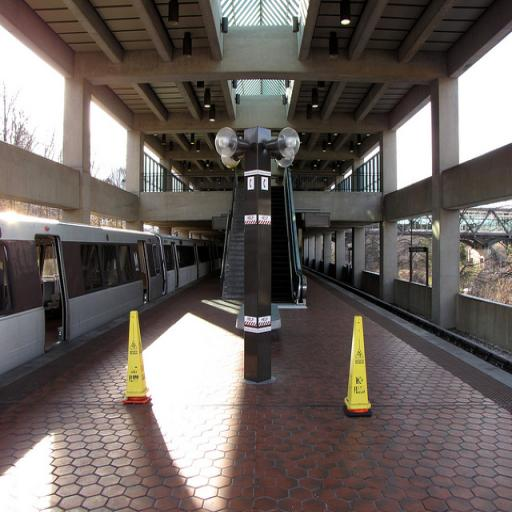platform_edge: (0, 343, 87, 409), (375, 302, 454, 359), (468, 350, 512, 427), (89, 312, 124, 348)
